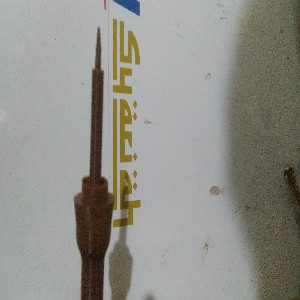solder: (72, 25, 116, 300)
